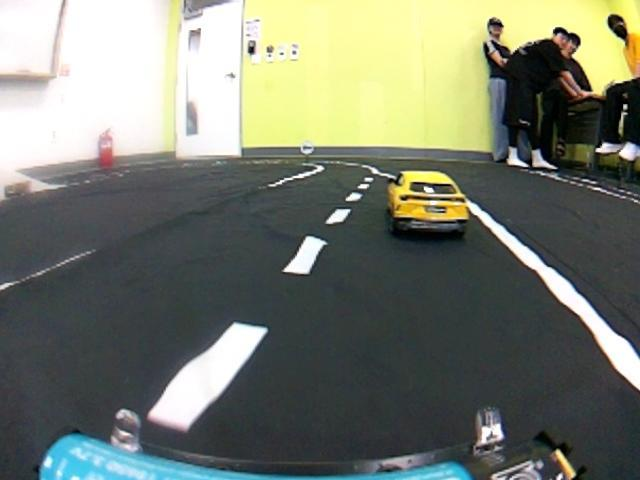car: (388, 169, 476, 235)
straight: (15, 242, 637, 480)
